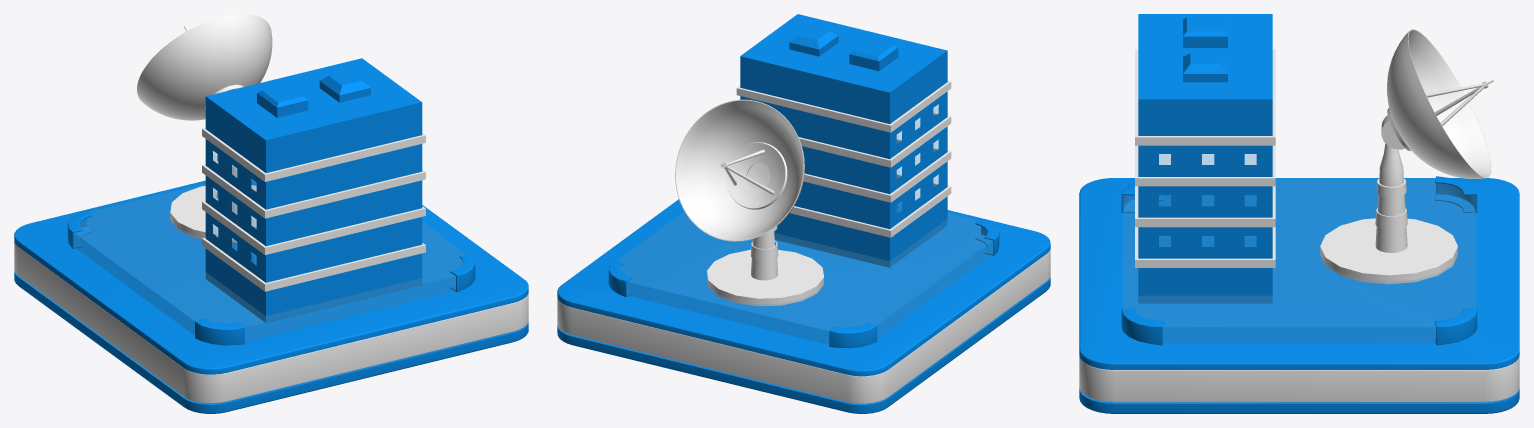
The model's file is 有设备.glb.
3 views of the same model, side by side, from view 1: azimuth 30°, elevation 25°; view 2: azimuth 150°, elevation 25°; view 3: azimuth 270°, elevation 25° (orthographic). The views are drawn at different scales.
Visible parts, largest first — view 1: 立方体_5.001, 布尔.002, 立方体_4.001, 立方体_1.001, 空白_3.001, 布尔.001, 圆柱体.001, 布尔.003; view 2: 立方体_5.001, 布尔.002, 立方体_4.001, 空白_3.001, 立方体_1.001, 布尔.001, 圆柱体.001, 布尔.003; view 3: 立方体_5.001, 布尔.002, 立方体_4.001, 立方体_1.001, 空白_3.001, 布尔.001, 圆柱体.001, 布尔.003.
Boxes of the visible parts, x1,y1,x2,y2 form: 立方体_5.001: (14, 179, 528, 413); 布尔.002: (205, 58, 422, 322); 立方体_4.001: (74, 180, 466, 341); 立方体_1.001: (14, 242, 528, 403); 空白_3.001: (137, 14, 272, 213); 布尔.001: (202, 128, 425, 291); 圆柱体.001: (170, 185, 256, 242); 布尔.003: (211, 151, 256, 265); 立方体_5.001: (557, 199, 1050, 413); 布尔.002: (740, 14, 947, 267); 立方体_4.001: (617, 202, 992, 344); 空白_3.001: (675, 99, 804, 280); 立方体_1.001: (557, 249, 1050, 403); 布尔.001: (736, 81, 951, 237); 圆柱体.001: (707, 249, 823, 306); 布尔.003: (897, 104, 939, 214); 立方体_5.001: (1079, 176, 1519, 413); 布尔.002: (1138, 14, 1272, 303); 立方体_4.001: (1123, 178, 1475, 342); 立方体_1.001: (1079, 356, 1519, 402); 空白_3.001: (1375, 29, 1493, 252); 布尔.001: (1135, 49, 1275, 267); 圆柱体.001: (1320, 218, 1457, 284); 布尔.003: (1159, 154, 1256, 247).
Size of the model in its own units: 0.6574 by 0.4673 by 0.6574.
5 materials, 5 textured.
